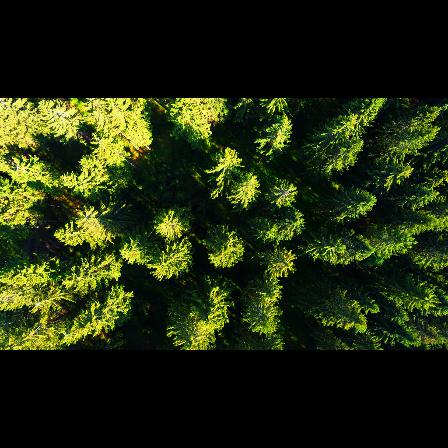Sick: (275, 180, 298, 204)
